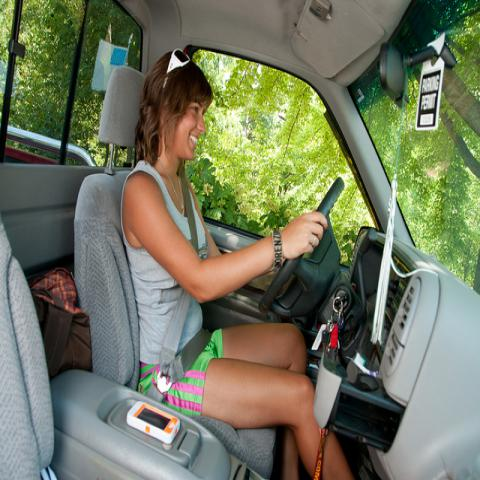car: (1, 1, 479, 479)
